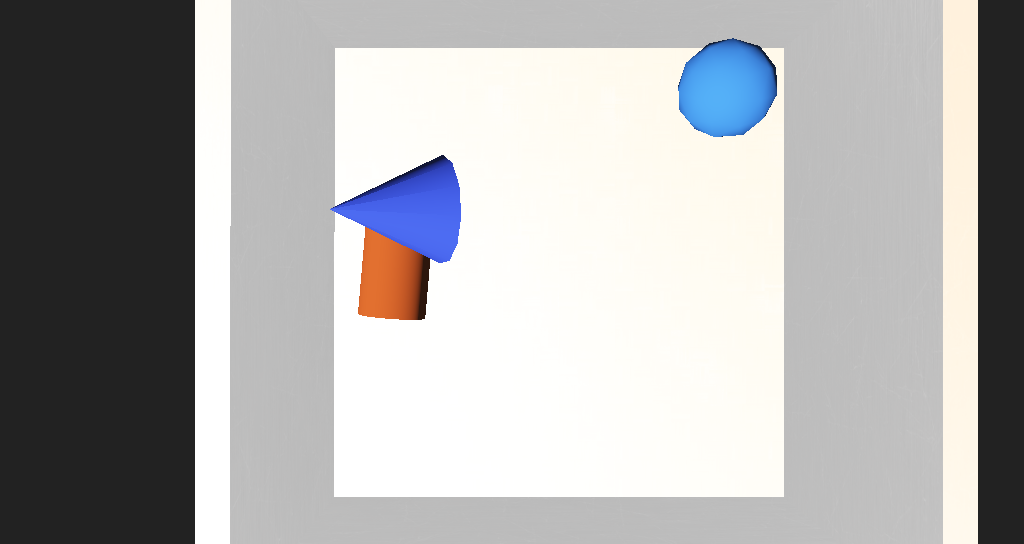cone: (367, 243, 428, 291)
cylinder: (323, 203, 445, 274)
sphere: (579, 165, 647, 208)
